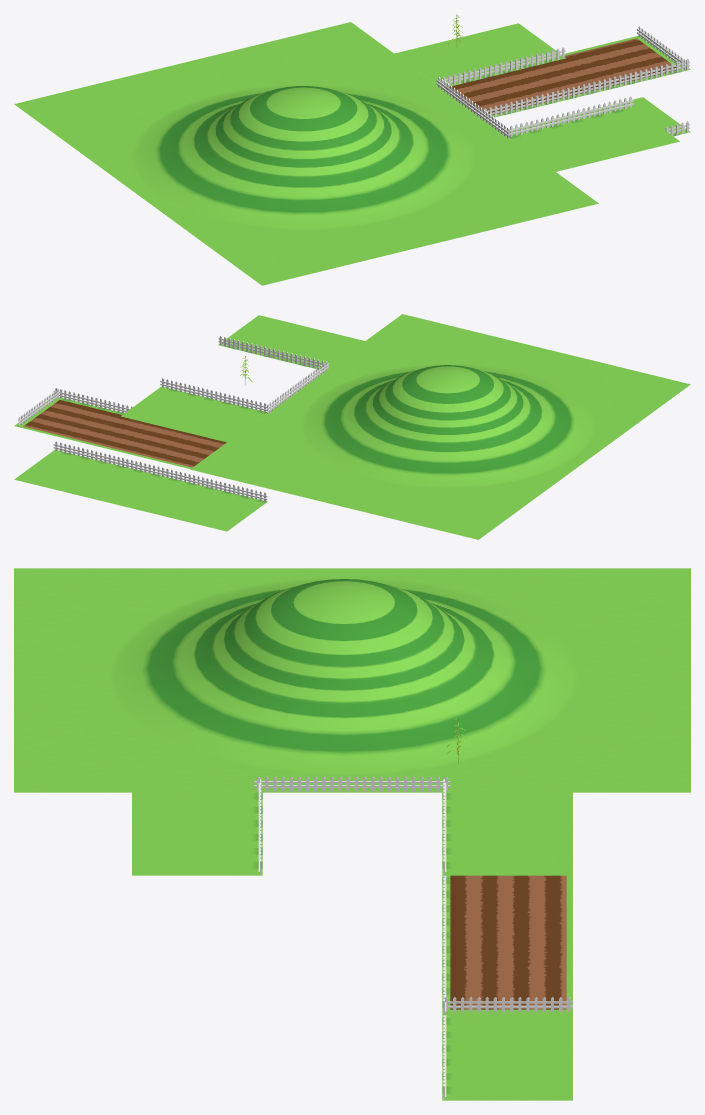
Rendered from fieldgrass.glb.
The picture shows the model from 3 angles, top to bottom: view 1: azimuth 30°, elevation 25°; view 2: azimuth 150°, elevation 25°; view 3: azimuth 270°, elevation 25°; orthographic projection. The views are drawn at different scales.
Parts seen in each view (by area): view 1: grass-1, grass1, grass0; view 2: grass-1, grass0, grass1; view 3: grass-1, grass1, grass0.
Boxes of the visible parts, x1,y1,x2,y2 form: grass-1: (14,22,679,285); grass1: (446,26,690,118); grass0: (503,97,690,136); grass-1: (121,314,690,539); grass0: (14,441,267,531); grass1: (14,387,226,468); grass-1: (14,568,690,875); grass1: (442,875,572,1015); grass0: (442,1015,572,1100).
Size of the model in its own units: 113 by 31.2 by 82.91.
6 materials, 3 textured.
